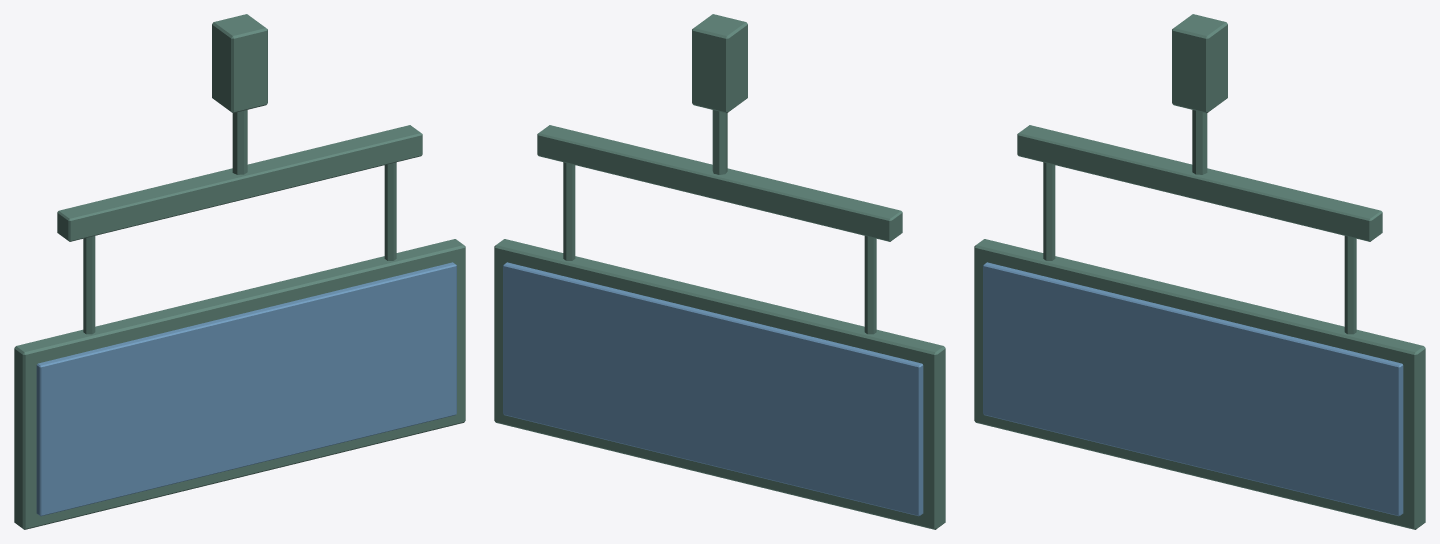
Rendered from indoor-market-hall-and-traders-hanging-trader-sign-blu-1948335a.glb.
3 views of the same model, side by side, from view 1: azimuth 30°, elevation 25°; view 2: azimuth 150°, elevation 25°; view 3: azimuth 330°, elevation 25° (orthographic).
Visible parts, largest first — view 1: hanging-trader-sign-blue; view 2: hanging-trader-sign-blue; view 3: hanging-trader-sign-blue.
Boxes of the visible parts, x1,y1,x2,y2 form: hanging-trader-sign-blue: (14,14,465,529); hanging-trader-sign-blue: (494,14,945,529); hanging-trader-sign-blue: (974,14,1425,529).
Bounding box in the file's own units: 1.2 × 1.16 × 0.1001.
